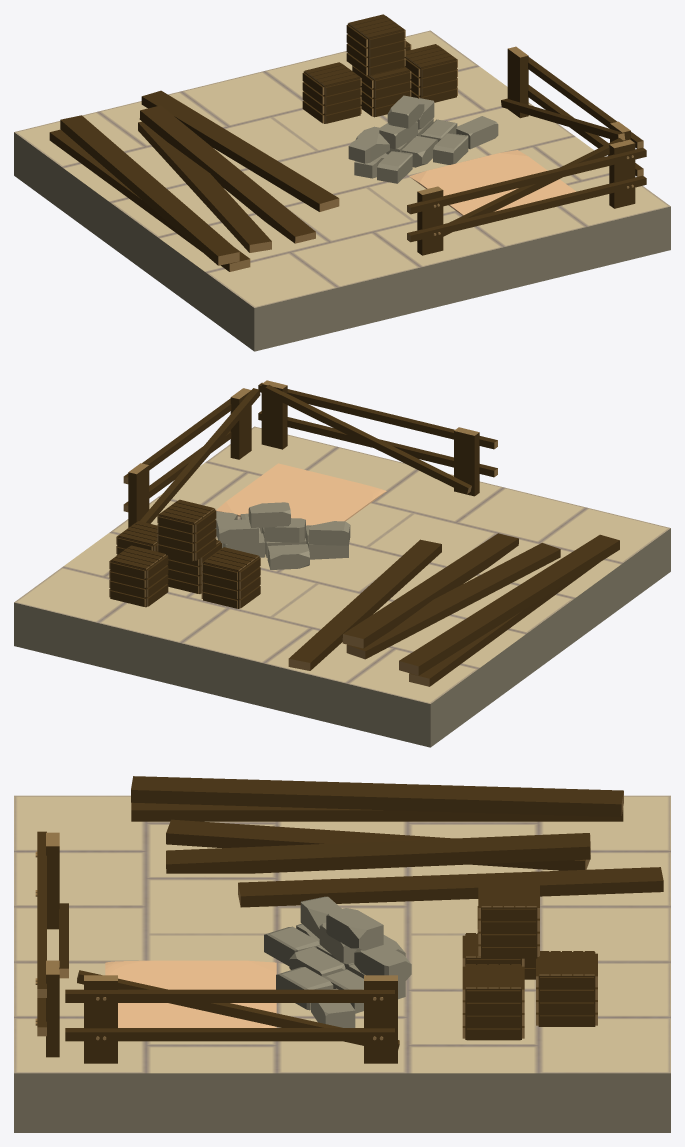
The model's file is tile0049.gltf.
3 renders of one model, top to bottom at view 1: azimuth 30°, elevation 25°; view 2: azimuth 150°, elevation 25°; view 3: azimuth 270°, elevation 25°, orthographic. The views are drawn at different scales.
Visible parts, largest first — view 1: Cube.030, Cube, Cube.008, Cube.017, Plane, Cube.078, Cube.076, Cube.074, Cube.075; view 2: Cube.030, Cube, Cube.008, Cube.017, Plane, Cube.077, Cube.078, Cube.076, Cube.075, Cube.074; view 3: Cube.030, Cube, Cube.008, Cube.017, Plane, Cube.074, Cube.076, Cube.077, Cube.075.
Boxes of the visible parts, <box> form: Cube.030: <box>14,30,670,351</box>; Cube: <box>49,90,339,271</box>; Cube.008: <box>407,46,646,255</box>; Cube.017: <box>348,95,498,183</box>; Plane: <box>409,150,575,215</box>; Cube.078: <box>302,62,361,123</box>; Cube.076: <box>346,14,405,75</box>; Cube.074: <box>404,44,457,102</box>; Cube.075: <box>352,66,411,117</box>; Cube.030: <box>14,426,670,747</box>; Cube: <box>288,533,619,686</box>; Cube.008: <box>123,380,497,527</box>; Cube.017: <box>215,502,350,569</box>; Plane: <box>216,463,386,525</box>; Cube.077: <box>109,545,168,607</box>; Cube.078: <box>201,547,260,608</box>; Cube.076: <box>157,499,216,561</box>; Cube.075: <box>167,540,221,593</box>; Cube.074: <box>116,521,158,555</box>; Cube.030: <box>14,795,670,1132</box>; Cube: <box>131,776,663,907</box>; Cube.008: <box>37,831,399,1063</box>; Cube.017: <box>264,896,411,1027</box>; Plane: <box>105,960,276,1027</box>; Cube.074: <box>462,964,524,1040</box>; Cube.076: <box>478,882,539,958</box>; Cube.077: <box>536,951,597,1026</box>; Cube.075: <box>462,933,524,966</box>.
Size of the model in its own units: 2 by 0.5469 by 2.
6 materials, 1 textured.
